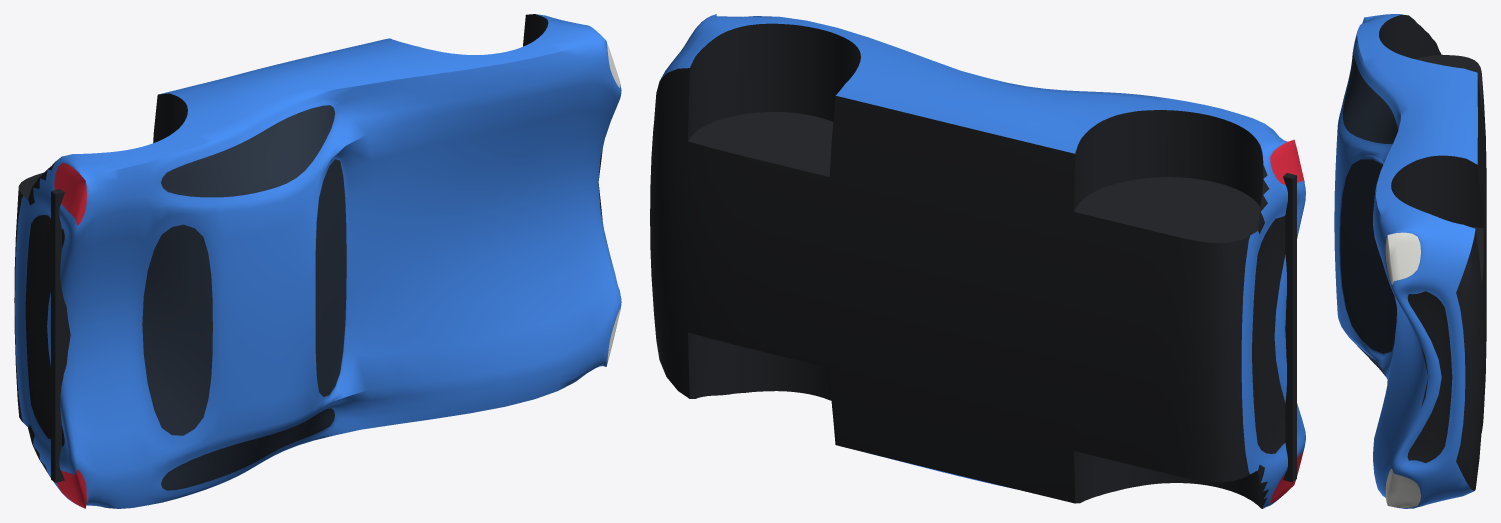
The model's file is aguja.glb.
3 views of the same model, side by side, from view 1: azimuth 30°, elevation 25°; view 2: azimuth 150°, elevation 25°; view 3: azimuth 270°, elevation 25° (orthographic). The views are drawn at different scales.
Parts seen in each view (by area): view 1: aguja; view 2: aguja; view 3: aguja.
Part boxes in pixels (x1,y1,x2,y2): aguja: (14,14,621,508); aguja: (650,14,1305,508); aguja: (1334,14,1486,508).
Size of the model in its own units: 134 by 80.14 by 37.3.
